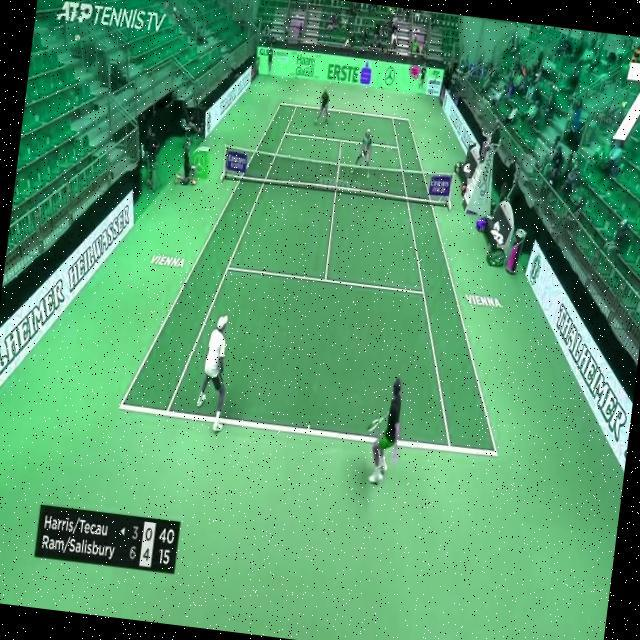court: (117, 86, 538, 456)
net: (220, 144, 455, 208)
player: (192, 310, 238, 435), (359, 372, 407, 487), (350, 125, 375, 178), (314, 86, 332, 126)
